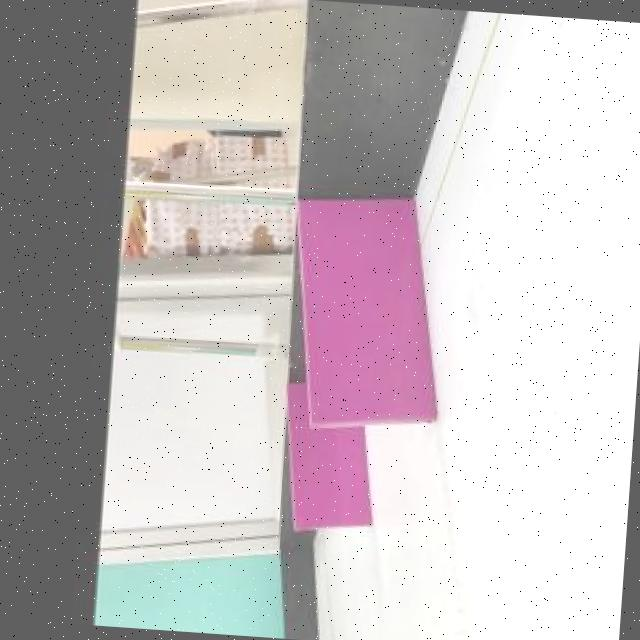xparking: (296, 198, 436, 423), (294, 438, 371, 524)
